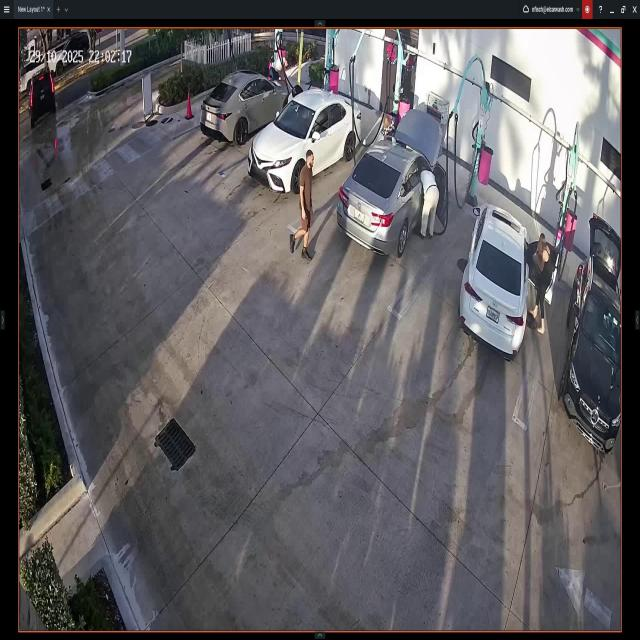Car: (337, 110, 447, 254), (460, 202, 558, 356), (563, 216, 621, 456), (253, 90, 363, 189), (199, 68, 292, 144), (27, 66, 59, 130)
